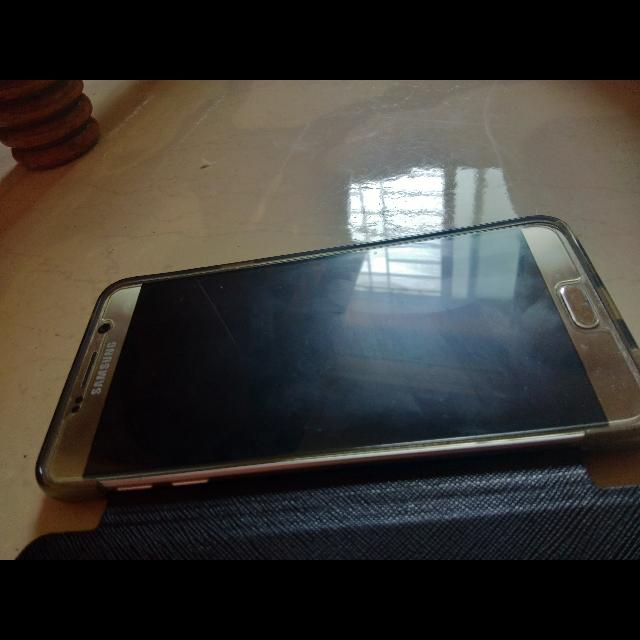Smartphone: (32, 203, 640, 513)
